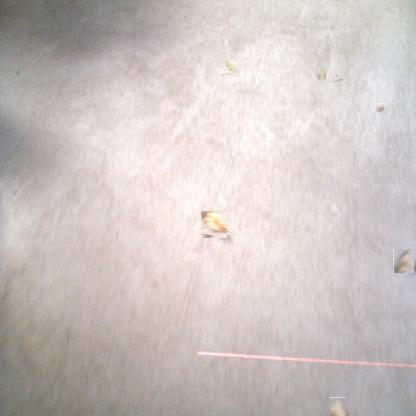dirty: (202, 209, 229, 237), (393, 250, 415, 273), (328, 397, 346, 416), (225, 61, 239, 74), (316, 66, 326, 80), (376, 103, 386, 112)
mark: (333, 75, 343, 85), (14, 68, 20, 76), (220, 72, 227, 78)
